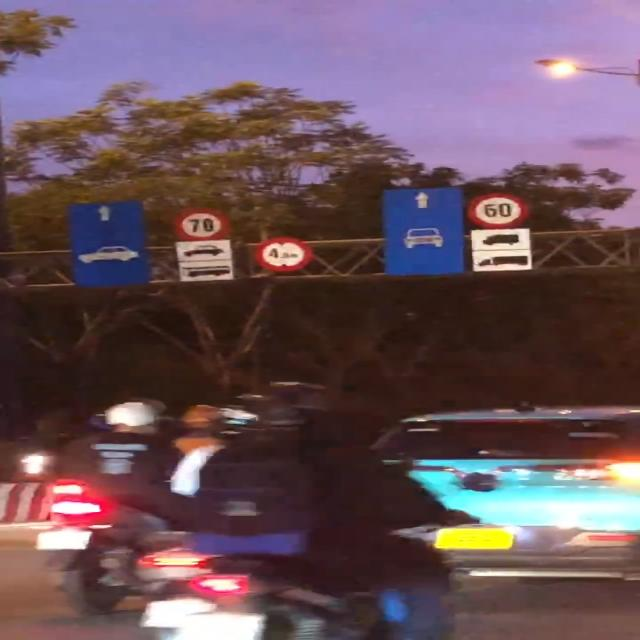Bien bao toc do toi da cho phep: (465, 192, 532, 230), (172, 205, 235, 242)
